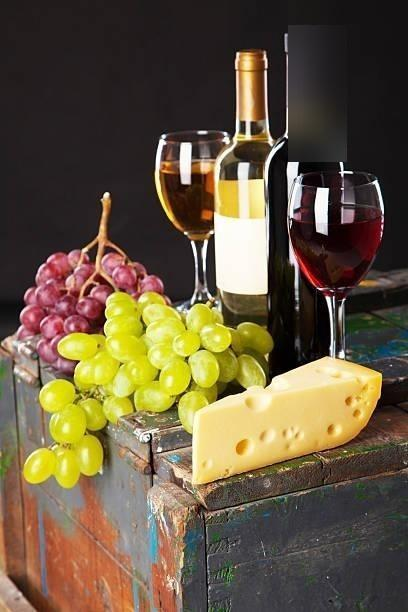bottle-glass: (212, 47, 287, 329)
glass-wine: (286, 168, 385, 369), (153, 128, 232, 313)
